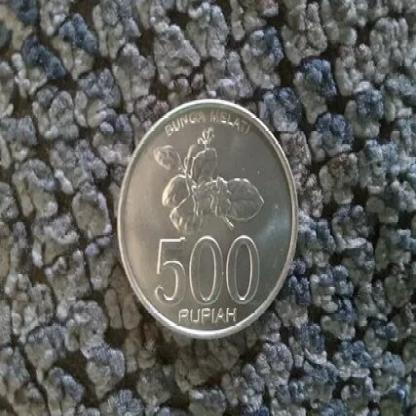coin_500_e2003: (117, 96, 311, 335)
